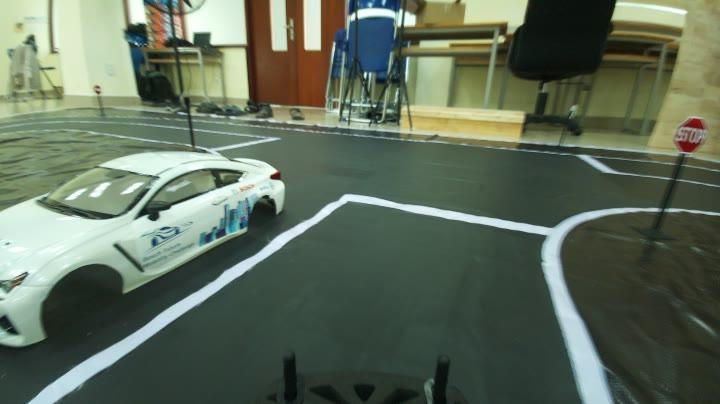car: (0, 151, 290, 357)
stop: (674, 112, 705, 160)
